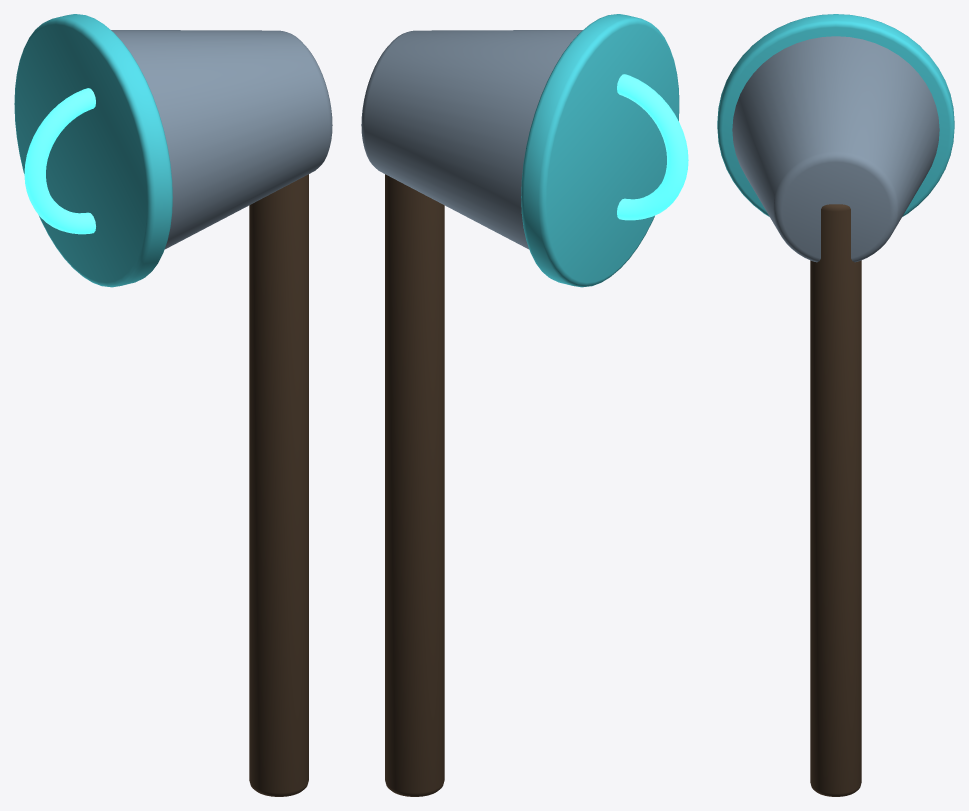
Rendered from hammer_v4.glb.
3 renders of one model, left to right at view 1: azimuth 30°, elevation 25°; view 2: azimuth 150°, elevation 25°; view 3: azimuth 270°, elevation 25°, orthographic. The views are drawn at different scales.
Visible parts, largest first — view 1: HAMMER_SHAFT_SECONDARY, BELL_HEAD_PRIMARY, BELL_FACE_ACCENT, BELL_RUNE_EMISSIVE; view 2: HAMMER_SHAFT_SECONDARY, BELL_FACE_ACCENT, BELL_HEAD_PRIMARY, BELL_RUNE_EMISSIVE; view 3: BELL_HEAD_PRIMARY, HAMMER_SHAFT_SECONDARY, BELL_FACE_ACCENT.
Part boxes in pixels (x1,y1,x2,y2): HAMMER_SHAFT_SECONDARY: (249, 174, 308, 796); BELL_HEAD_PRIMARY: (111, 30, 332, 249); BELL_FACE_ACCENT: (14, 14, 172, 287); BELL_RUNE_EMISSIVE: (24, 88, 95, 234); HAMMER_SHAFT_SECONDARY: (385, 174, 444, 796); BELL_FACE_ACCENT: (521, 14, 679, 287); BELL_HEAD_PRIMARY: (361, 30, 582, 249); BELL_RUNE_EMISSIVE: (617, 74, 688, 220); BELL_HEAD_PRIMARY: (732, 36, 939, 262); HAMMER_SHAFT_SECONDARY: (810, 204, 861, 796); BELL_FACE_ACCENT: (717, 14, 954, 216).
Bounding box in the file's own units: 1.4 × 3.74 × 1.16.
